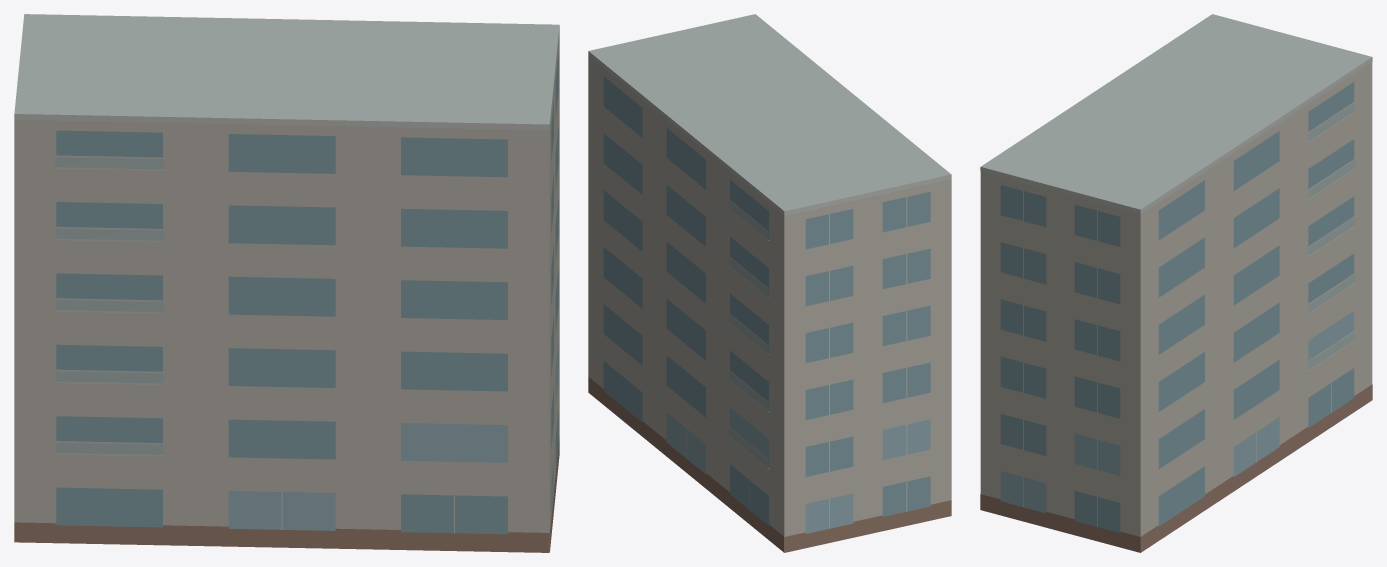
Rendered from survey-upis-33016377.glb.
The picture shows the model from 3 angles, left to right: view 1: azimuth 30°, elevation 25°; view 2: azimuth 150°, elevation 25°; view 3: azimuth 270°, elevation 25°; orthographic projection. The views are drawn at different scales.
Parts seen in each view (by area): view 1: survey-upis-33016377.tmp; view 2: survey-upis-33016377.tmp; view 3: survey-upis-33016377.tmp.
Boxes of the visible parts, x1,y1,x2,y2 form: survey-upis-33016377.tmp: [14, 14, 559, 552]; survey-upis-33016377.tmp: [588, 14, 951, 552]; survey-upis-33016377.tmp: [980, 14, 1372, 552].
Bounding box in the file's own units: 22.38 × 18.3 × 18.95.
